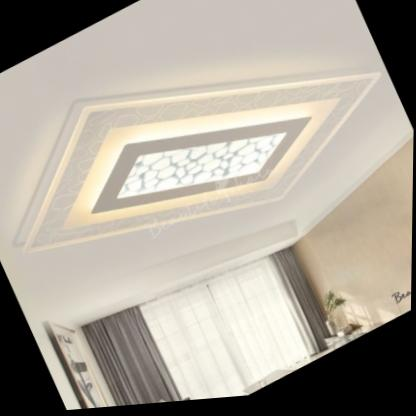Gypsum Board: (0, 0, 416, 382)
